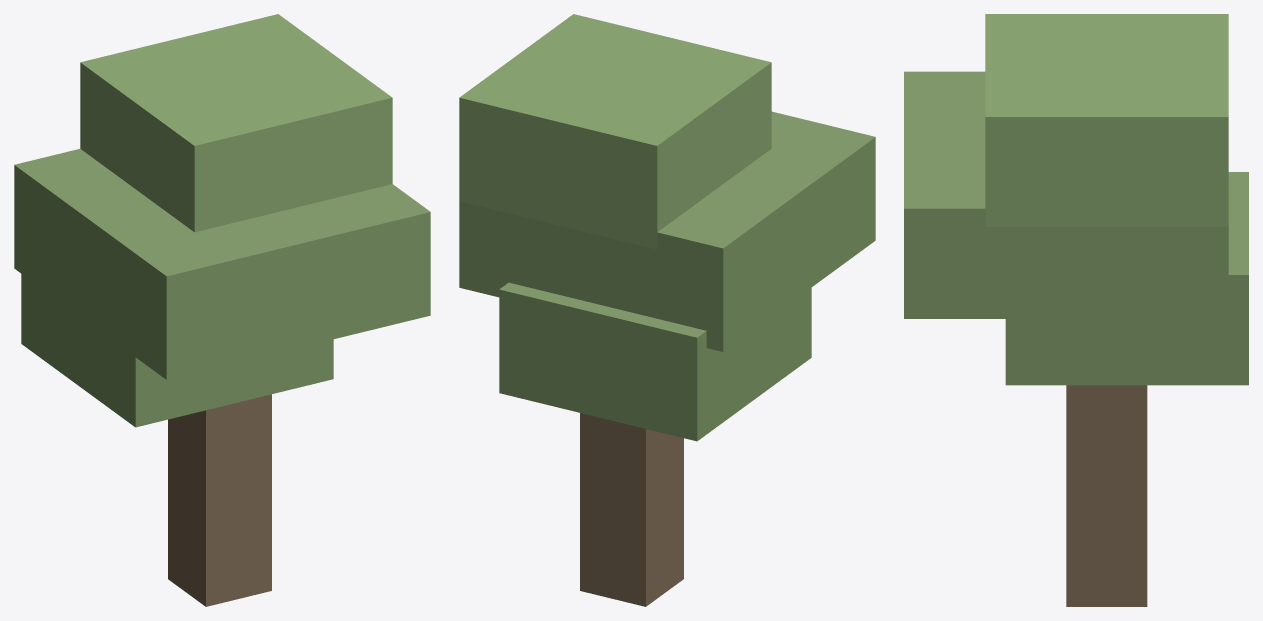
The model's file is chopo_03.glb.
The picture shows the model from 3 angles, left to right: view 1: azimuth 30°, elevation 25°; view 2: azimuth 150°, elevation 25°; view 3: azimuth 270°, elevation 25°; orthographic projection. The views are drawn at different scales.
Parts seen in each view (by area): view 1: chopo_03; view 2: chopo_03; view 3: chopo_03.
Part boxes in pixels (<box>): chopo_03: <box>14,14,430,606</box>; chopo_03: <box>459,14,875,606</box>; chopo_03: <box>904,14,1248,606</box>.
Size of the model in its own units: 1.6 by 2.9 by 1.7.
